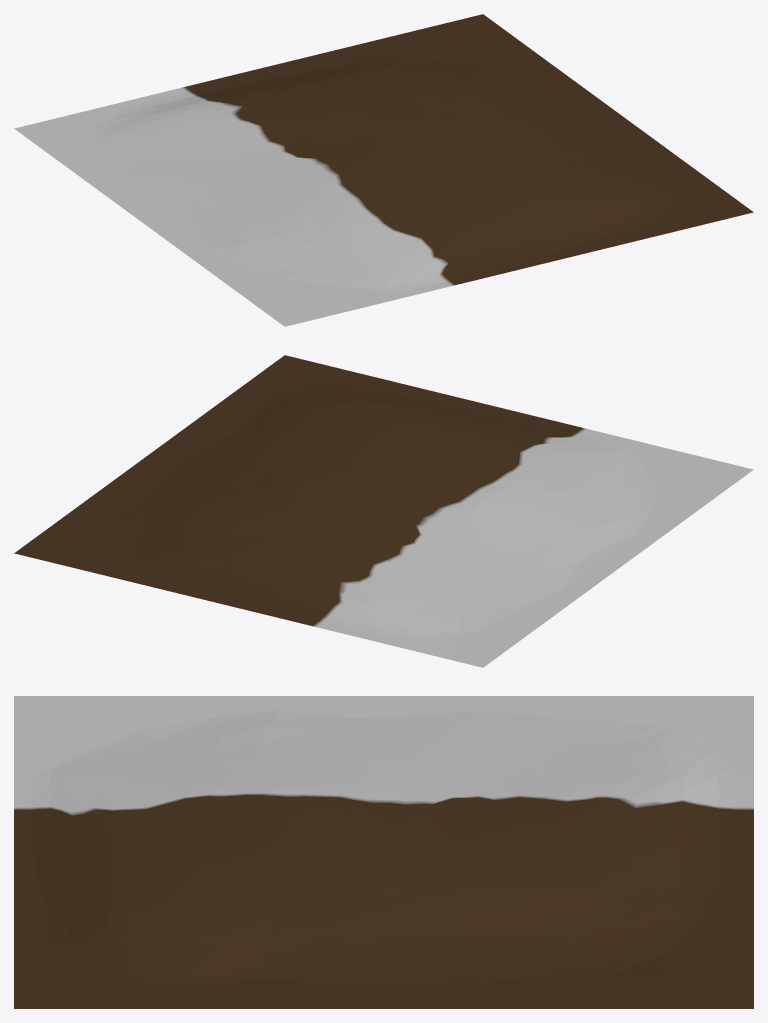
The model's file is Terrain_06.fbx.
The picture shows the model from 3 angles, top to bottom: view 1: azimuth 30°, elevation 25°; view 2: azimuth 150°, elevation 25°; view 3: azimuth 270°, elevation 25°; orthographic projection. The views are drawn at different scales.
Parts seen in each view (by area): view 1: Terrain_06; view 2: Terrain_06; view 3: Terrain_06.
Boxes of the visible parts, x1,y1,x2,y2 form: Terrain_06: [14, 14, 753, 326]; Terrain_06: [14, 355, 753, 667]; Terrain_06: [14, 696, 753, 1008].
Size of the model in its own units: 128 by 4.06 by 128.
